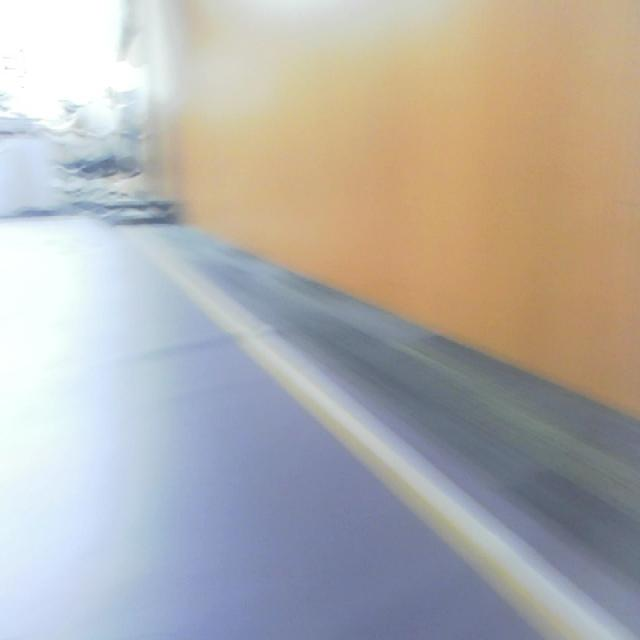left_lane: (137, 230, 618, 640)
